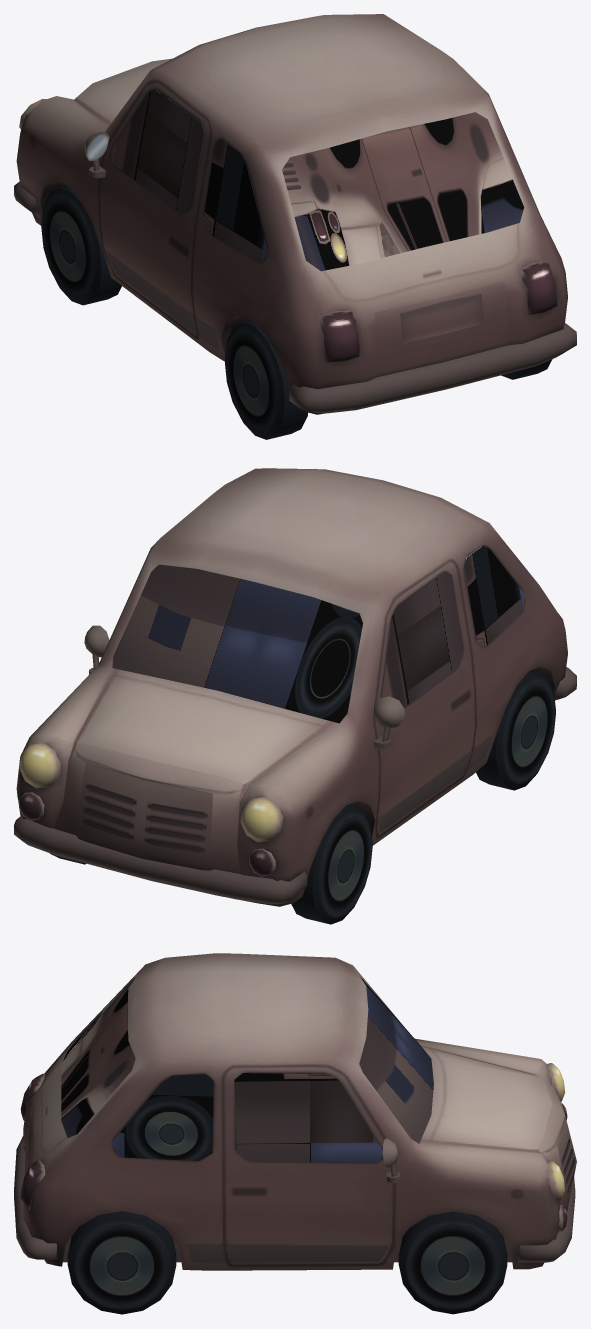
The model's file is car_g4.glb.
3 renders of one model, top to bottom at view 1: azimuth 30°, elevation 25°; view 2: azimuth 150°, elevation 25°; view 3: azimuth 270°, elevation 25°, orthographic. The views are drawn at different scales.
Visible parts, largest first — view 1: car002, car00b002, car00l006, car00l005; view 2: car002, car00b002, car00l005, car00l006; view 3: car002, car00b002, Object152, Object153.
Part boxes in pixels (bbox=[...]): car002: bbox=[14, 14, 576, 414]; car00b002: bbox=[110, 89, 524, 271]; car00l006: bbox=[225, 320, 307, 439]; car00l005: bbox=[41, 186, 121, 305]; car002: bbox=[14, 468, 576, 906]; car00b002: bbox=[112, 545, 524, 723]; car00l005: bbox=[291, 805, 372, 924]; car00l006: bbox=[476, 671, 555, 790]; car002: bbox=[14, 953, 576, 1270]; car00b002: bbox=[61, 976, 433, 1162]; Object152: bbox=[67, 1211, 176, 1314]; Object153: bbox=[398, 1211, 507, 1314].
Bounding box in the file's own units: 2.12 × 1.84 × 3.6.
3 materials, 3 textured.
